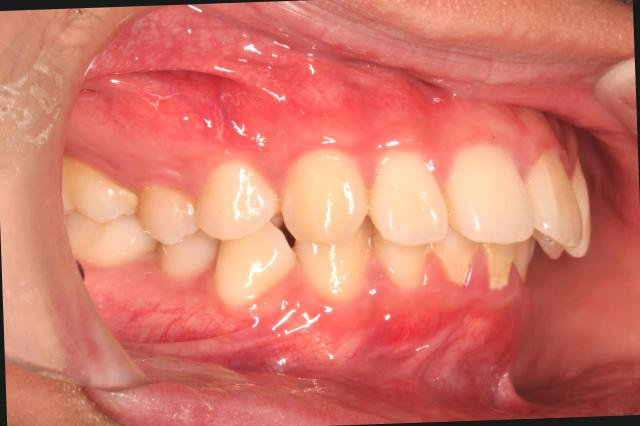canine class II 1/4: (203, 142, 374, 313)
molar class I: (56, 155, 156, 278)
